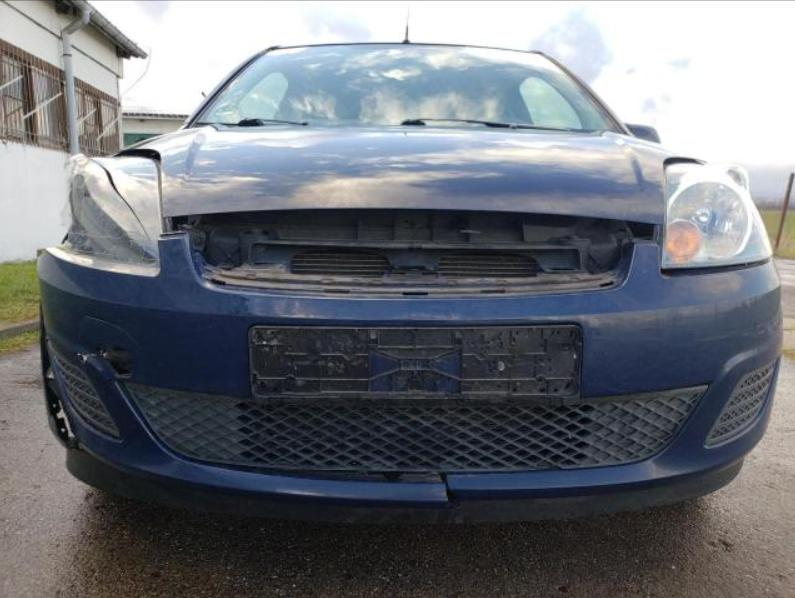Front-bumper: (36, 234, 785, 523)
Grille: (161, 207, 638, 299)
Headlight: (47, 153, 163, 277), (662, 161, 772, 274)
Hood: (121, 124, 703, 223)
License-plate: (248, 324, 585, 402)
Mirror: (625, 123, 660, 144)
Windshield: (191, 44, 628, 135)
